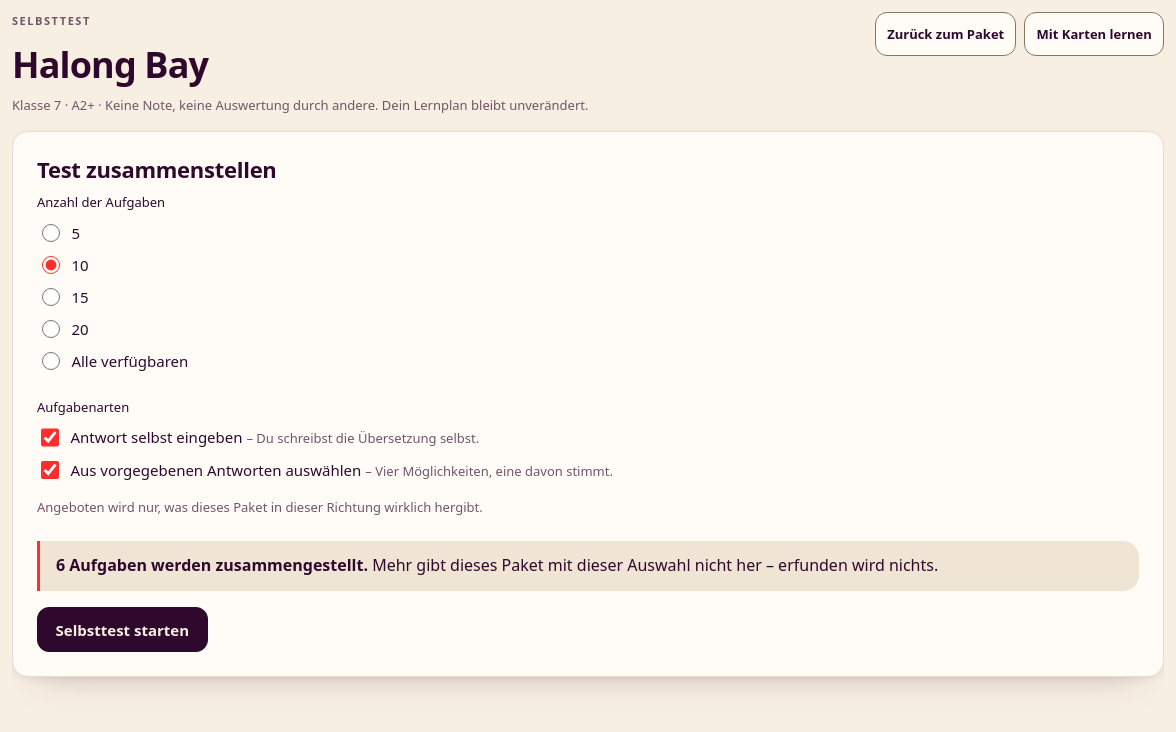
Test case: Selbsttest – Bearbeiten › zeigt Fortschritt und gibt zwischendurch keine Bewertung
Click the radio button labelled "5": click(51, 233) [42,224,60,242]
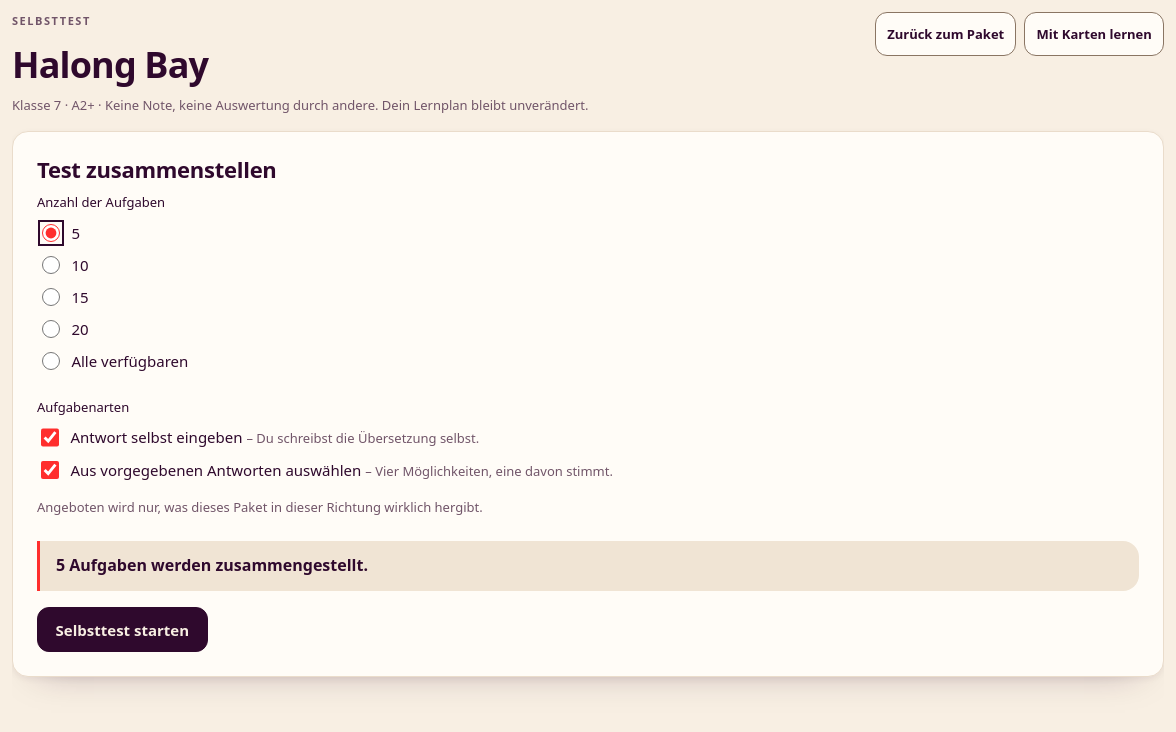
Click the button "Selbsttest starten": click(122, 630) [37,607,208,652]
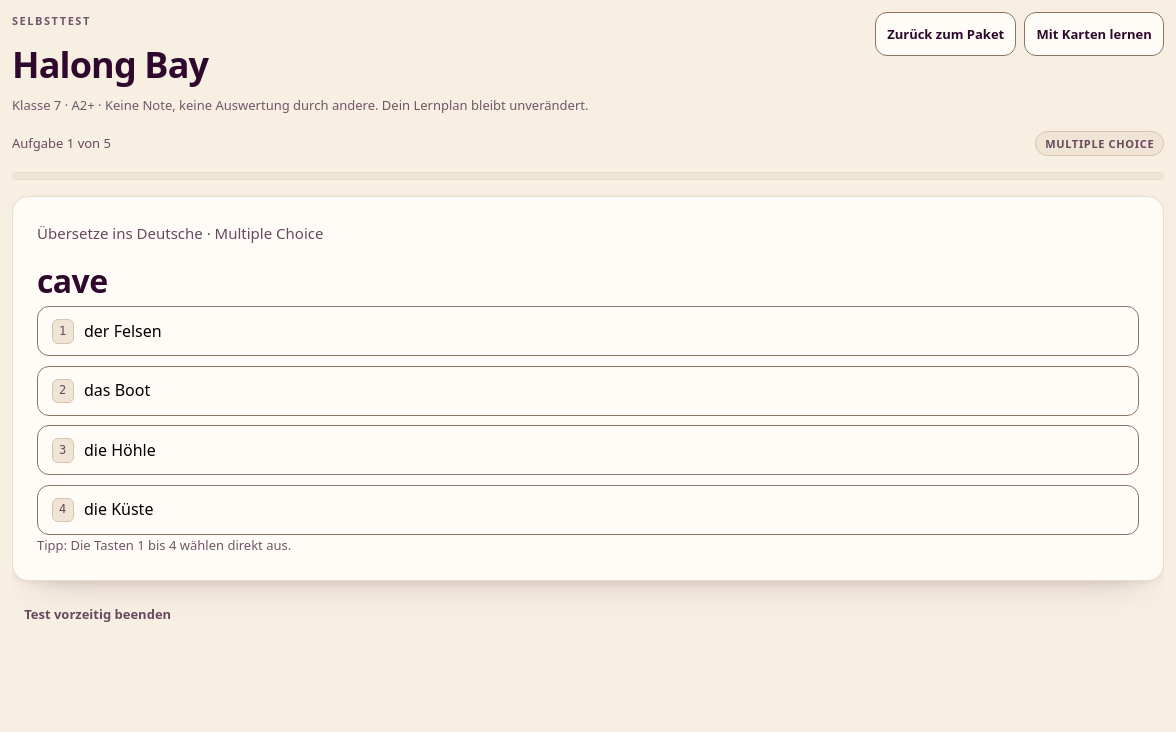
Expected: the text "Aufgabe 1 von 5" is shown, [12,133,111,154]
Click the button "3 die Höhle": click(120, 450) [37,426,1139,476]
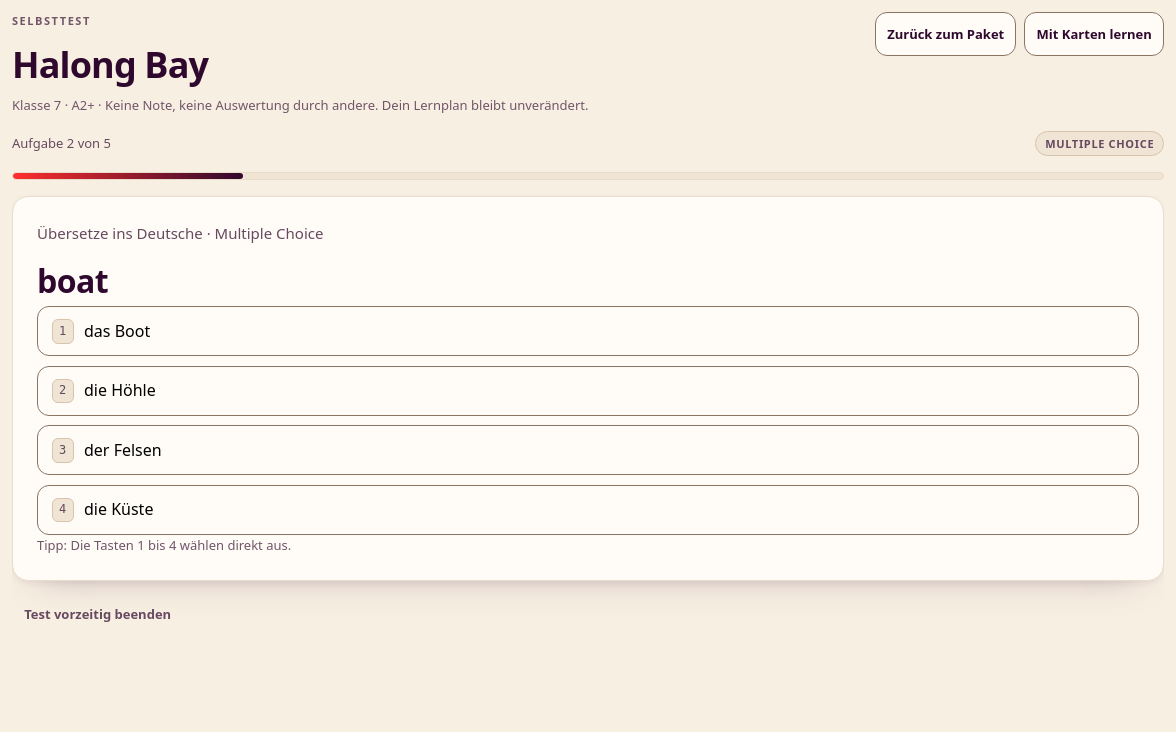
Expected: the text "Aufgabe 2 von 5" is shown, [12,133,111,154]
